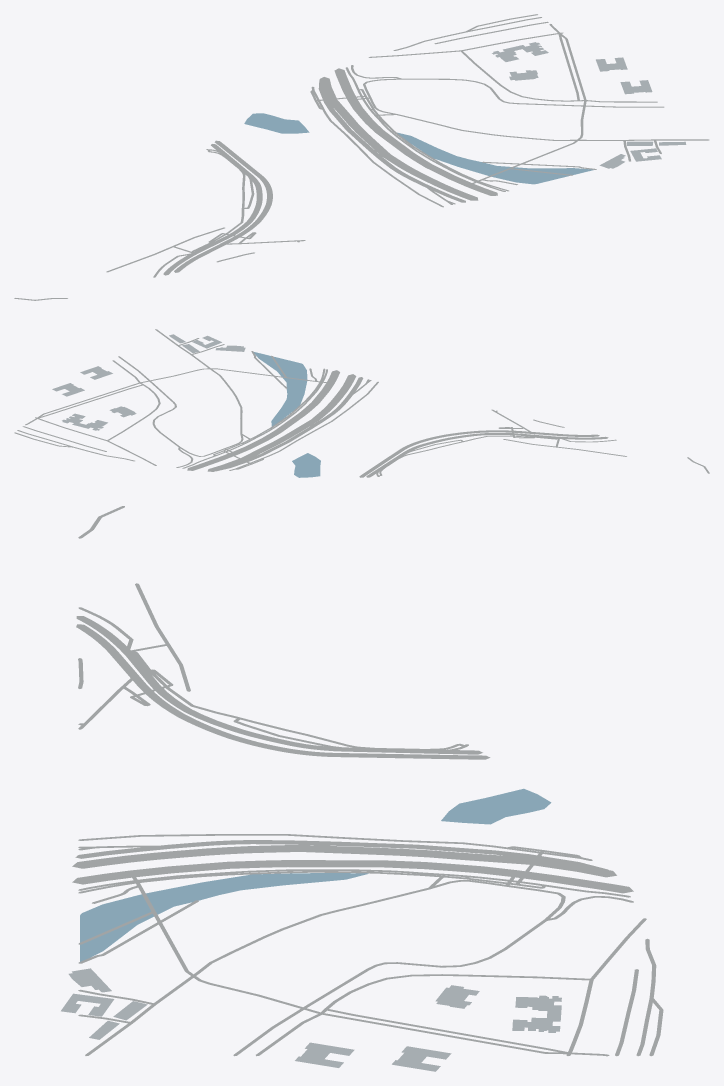
The model's file is 8_6-known-coarse.glb.
3 views of the same model, one above another, from view 1: azimuth 30°, elevation 25°; view 2: azimuth 150°, elevation 25°; view 3: azimuth 270°, elevation 25° (orthographic). The views are drawn at different scales.
Size of the model in its own units: 953 by 0.15 by 429.
